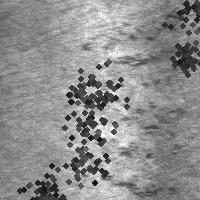rolled-in_scale: (95, 80, 178, 197), (45, 50, 131, 136), (43, 124, 119, 200), (83, 11, 179, 69), (57, 91, 127, 161), (153, 0, 200, 48), (13, 167, 71, 200), (163, 35, 200, 79)
